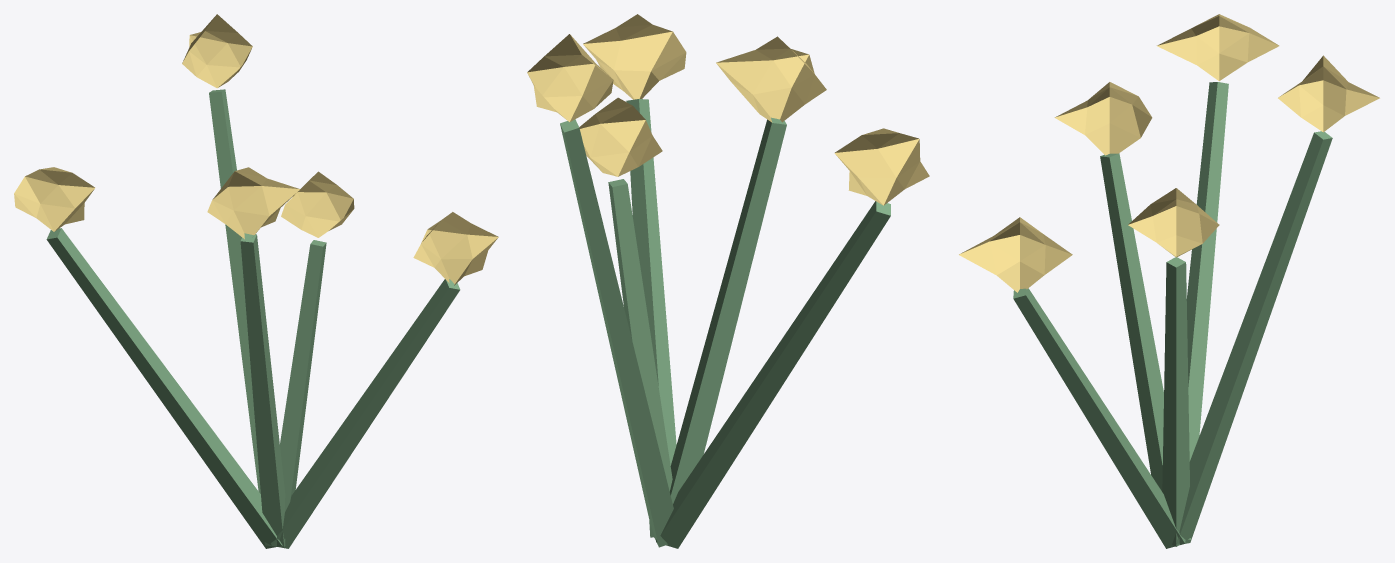
The model's file is flower_v47.glb.
3 renders of one model, left to right at view 1: azimuth 30°, elevation 25°; view 2: azimuth 150°, elevation 25°; view 3: azimuth 270°, elevation 25°, orthographic. The views are drawn at different scales.
Visible parts, largest first — view 1: lod0; view 2: lod0; view 3: lod0.
Part boxes in pixels (box(x1,y1,x2,y2)): lod0: box(14, 14, 498, 548); lod0: box(527, 14, 929, 548); lod0: box(959, 14, 1379, 548).
Size of what is drawn, in the model's own units: 0.5652 by 0.6671 by 0.5143.
